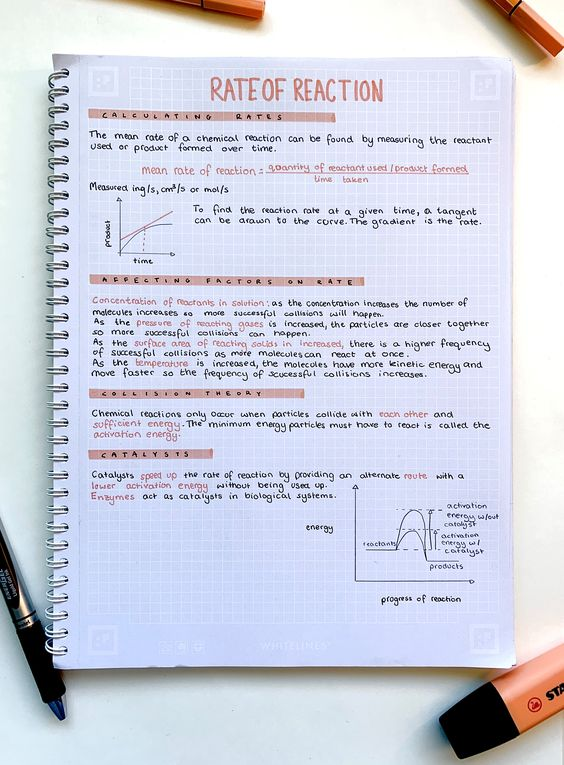page: (73, 60, 509, 657)
